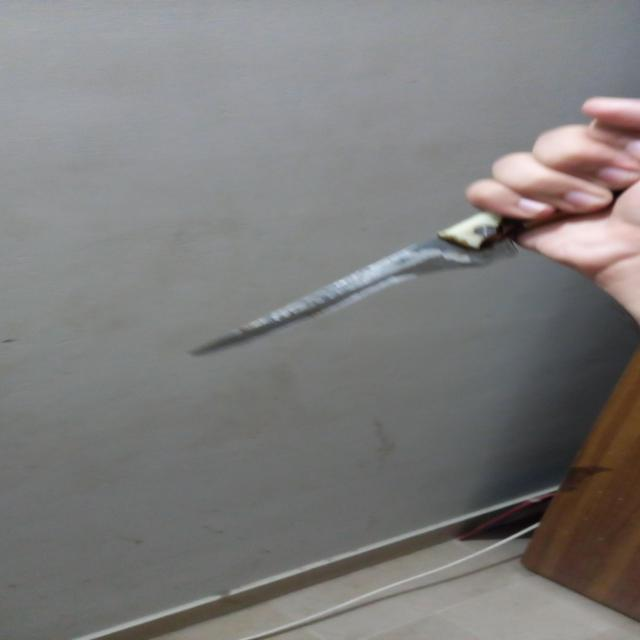Knife: (180, 204, 550, 358)
Person: (470, 97, 640, 338)
